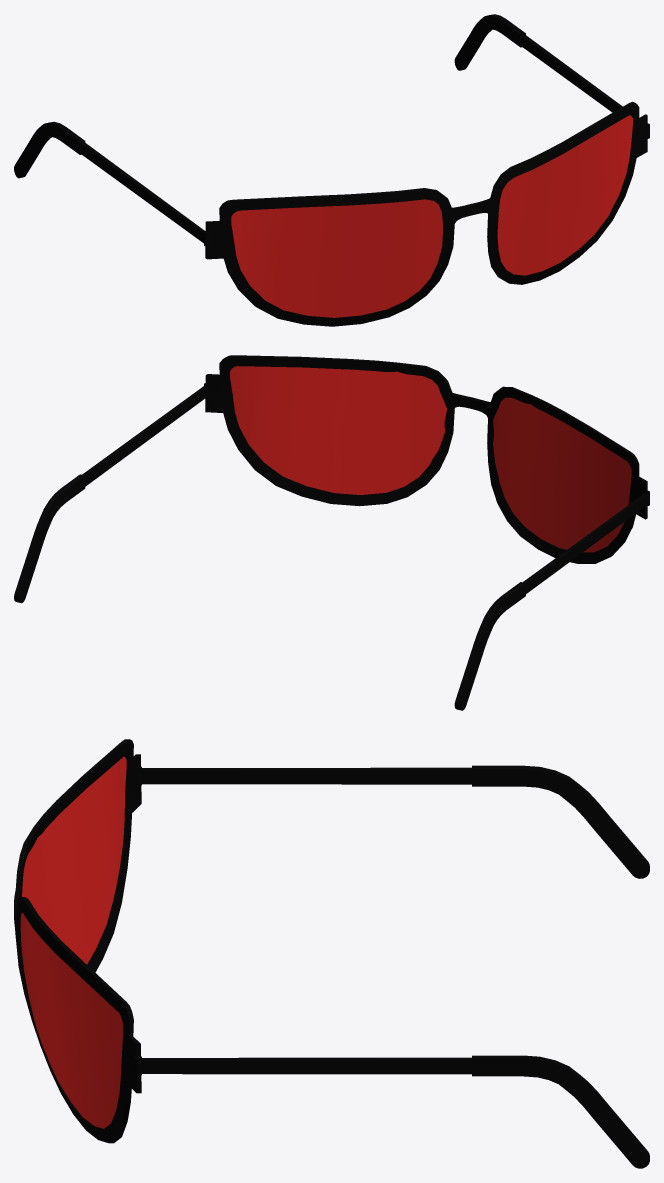
The model's file is Glasses-SyNFHIhIDd.glb.
3 renders of one model, top to bottom at view 1: azimuth 30°, elevation 25°; view 2: azimuth 150°, elevation 25°; view 3: azimuth 270°, elevation 25°, orthographic. The views are drawn at different scales.
Parts seen in each view (by area): view 1: Glasses-SyNFHIhIDd; view 2: Glasses-SyNFHIhIDd; view 3: Glasses-SyNFHIhIDd.
Part boxes in pixels (x1,y1,x2,y2): Glasses-SyNFHIhIDd: (14,14,649,326); Glasses-SyNFHIhIDd: (14,355,649,710); Glasses-SyNFHIhIDd: (14,739,649,1168).
Bounding box in the file's own units: 2.02 × 0.594 × 1.85.
